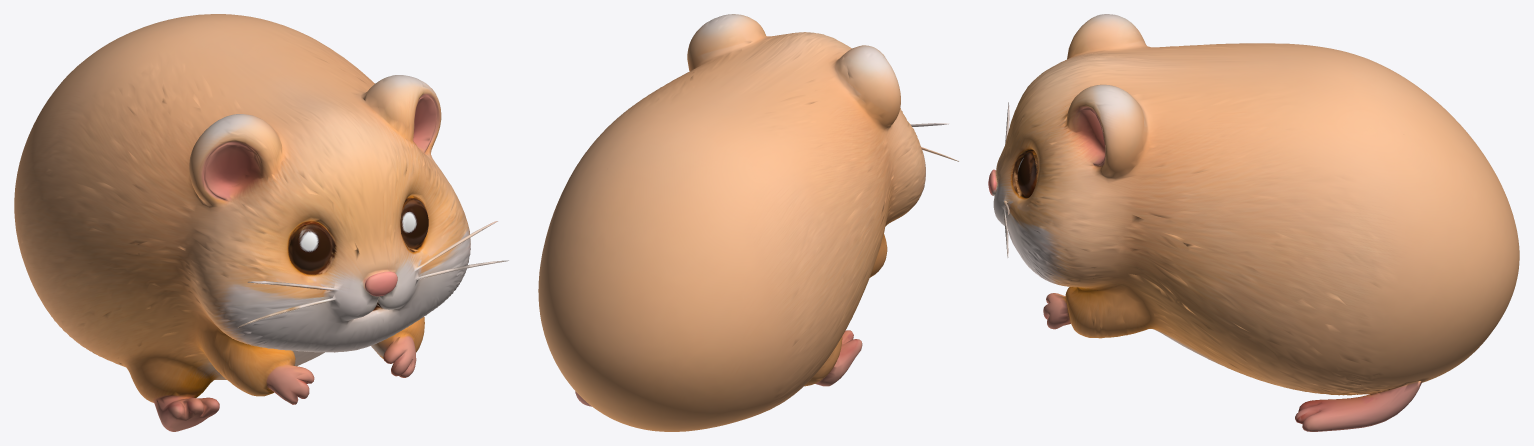
The model's file is tuantuan_baby.glb.
3 views of the same model, side by side, from view 1: azimuth 30°, elevation 25°; view 2: azimuth 150°, elevation 25°; view 3: azimuth 270°, elevation 25° (orthographic). The views are drawn at different scales.
Visible parts, largest first — view 1: node_0; view 2: node_0; view 3: node_0.
Boxes of the visible parts, x1,y1,x2,y2 form: node_0: [14, 14, 508, 431]; node_0: [538, 14, 958, 431]; node_0: [988, 14, 1519, 431].
Size of the model in its own units: 0.7014 by 0.7581 by 1.11.
Materials: 1 (1 with a texture image).
